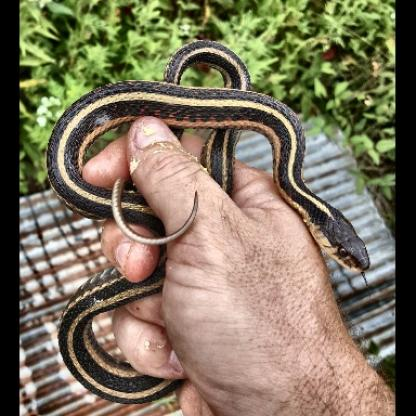Snake: (40, 33, 386, 408)
